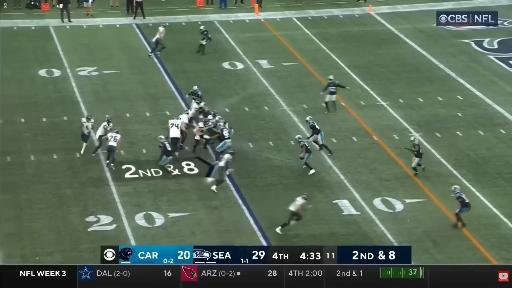Helmet: (452, 183, 461, 195), (328, 76, 337, 84), (411, 137, 419, 145), (157, 135, 165, 143), (86, 114, 92, 124), (160, 23, 170, 29), (295, 135, 302, 143), (307, 117, 315, 124), (191, 85, 198, 93), (199, 103, 206, 110), (194, 98, 202, 104), (216, 123, 224, 129), (302, 194, 308, 201), (203, 119, 209, 126), (211, 112, 218, 117), (107, 118, 112, 124), (229, 150, 235, 155), (173, 116, 180, 120), (200, 27, 206, 31), (184, 111, 190, 114), (115, 129, 119, 133)
Jersey: (324, 81, 345, 94), (289, 197, 306, 212), (455, 192, 469, 207), (97, 122, 112, 136), (169, 120, 181, 137), (159, 141, 172, 156), (107, 133, 121, 146), (308, 121, 321, 135), (82, 118, 93, 134), (219, 154, 232, 167), (153, 27, 165, 41), (218, 128, 230, 142), (413, 143, 423, 159), (299, 140, 311, 153), (196, 122, 210, 133), (189, 102, 199, 117), (190, 90, 202, 101), (201, 30, 211, 42), (180, 114, 189, 125)
Player: (276, 194, 310, 234), (320, 76, 349, 114), (306, 116, 332, 155), (207, 154, 232, 192), (92, 116, 112, 155), (406, 136, 425, 175), (296, 135, 315, 174), (452, 186, 470, 227), (104, 130, 121, 169), (193, 119, 212, 152), (148, 24, 166, 57), (169, 116, 183, 156), (158, 136, 173, 172), (179, 111, 193, 149), (81, 115, 93, 154), (197, 26, 211, 55), (216, 127, 231, 154), (189, 100, 203, 121), (187, 86, 202, 101)
